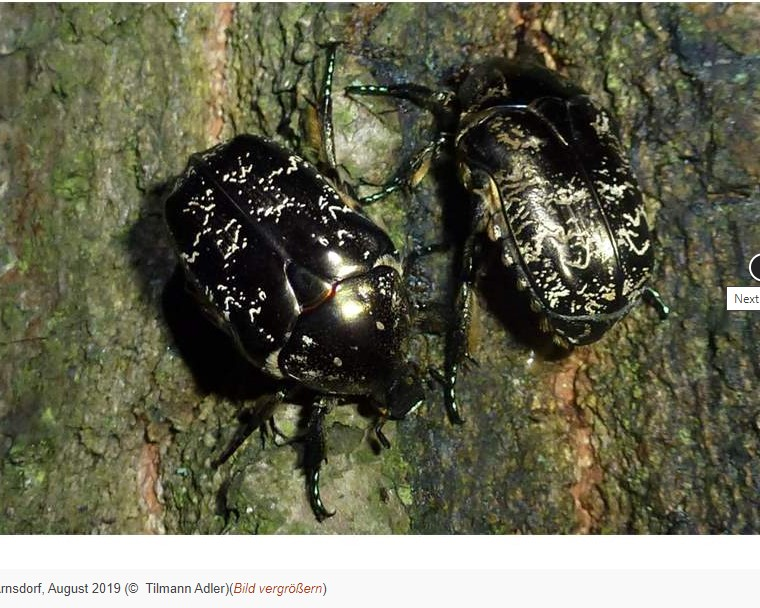Protaetia_lugubris: (141, 123, 433, 521), (348, 38, 675, 388)
